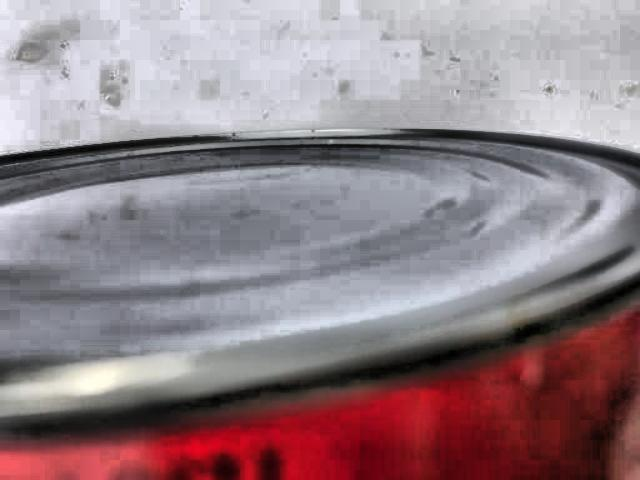Almennt: (0, 117, 640, 480)
